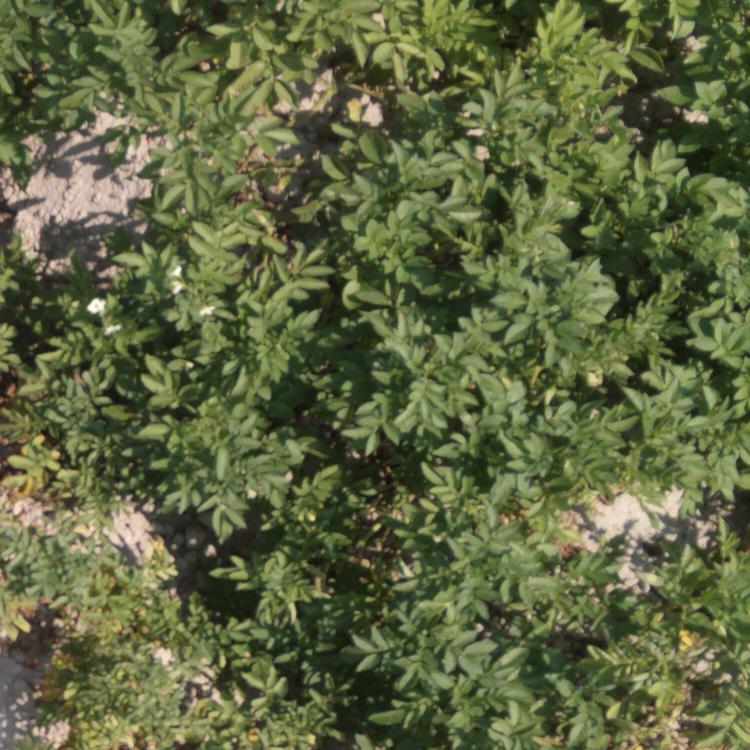healthy: (329, 130, 742, 494), (311, 557, 750, 746), (157, 121, 316, 532), (4, 1, 439, 121), (442, 1, 743, 133), (6, 248, 137, 415), (301, 498, 553, 563)
stressed: (87, 528, 288, 750), (1, 421, 83, 633)
